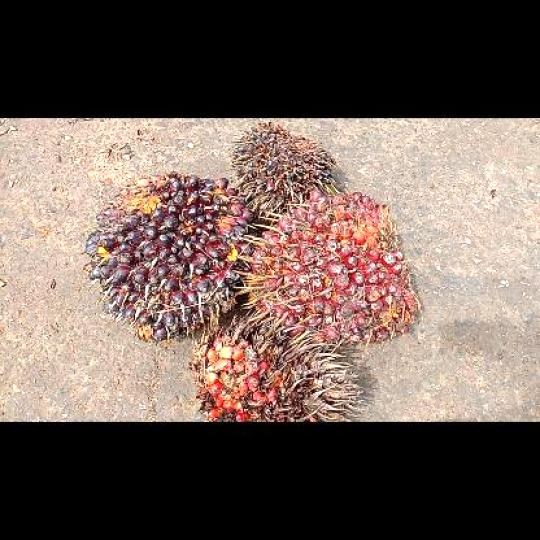kurang masak: (80, 170, 260, 344)
masak: (235, 186, 422, 349)
terlalu masak: (189, 312, 374, 420)
